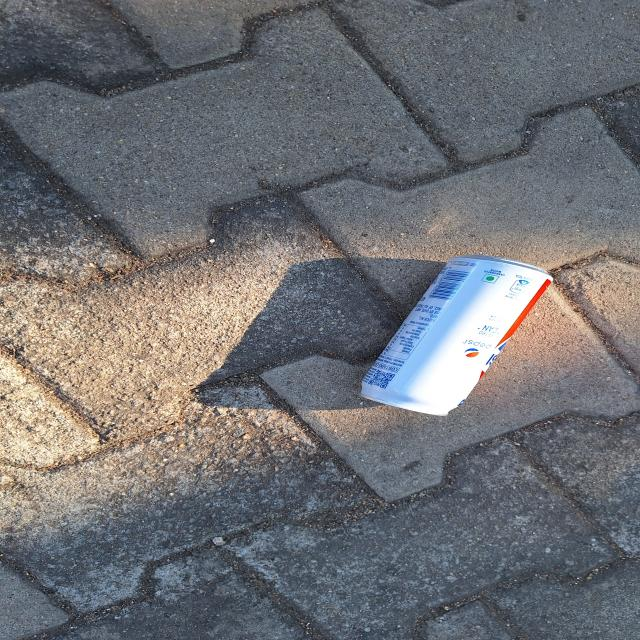Pepsi Retro: (356, 261, 554, 413)
